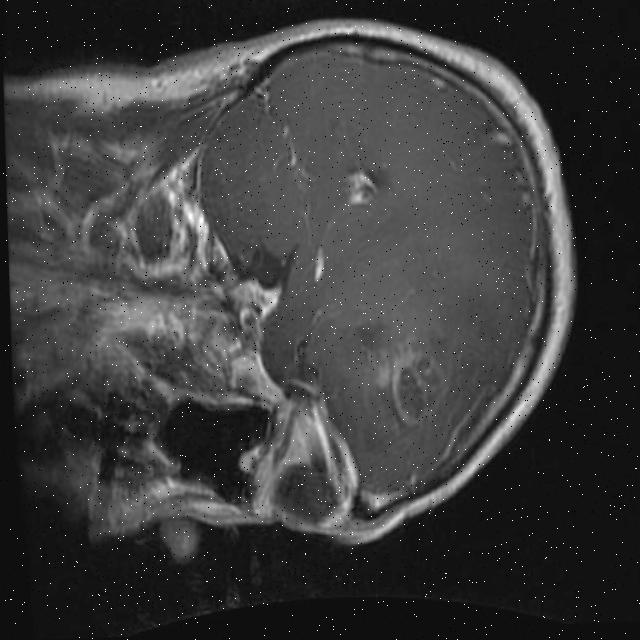Glioma: (388, 354, 447, 429)
